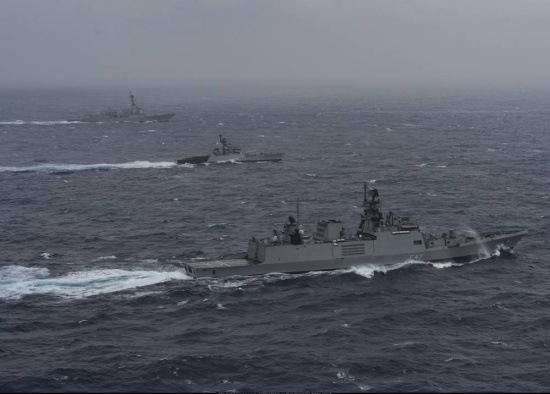warship: (182, 180, 532, 280), (172, 131, 286, 168), (64, 90, 175, 124)
